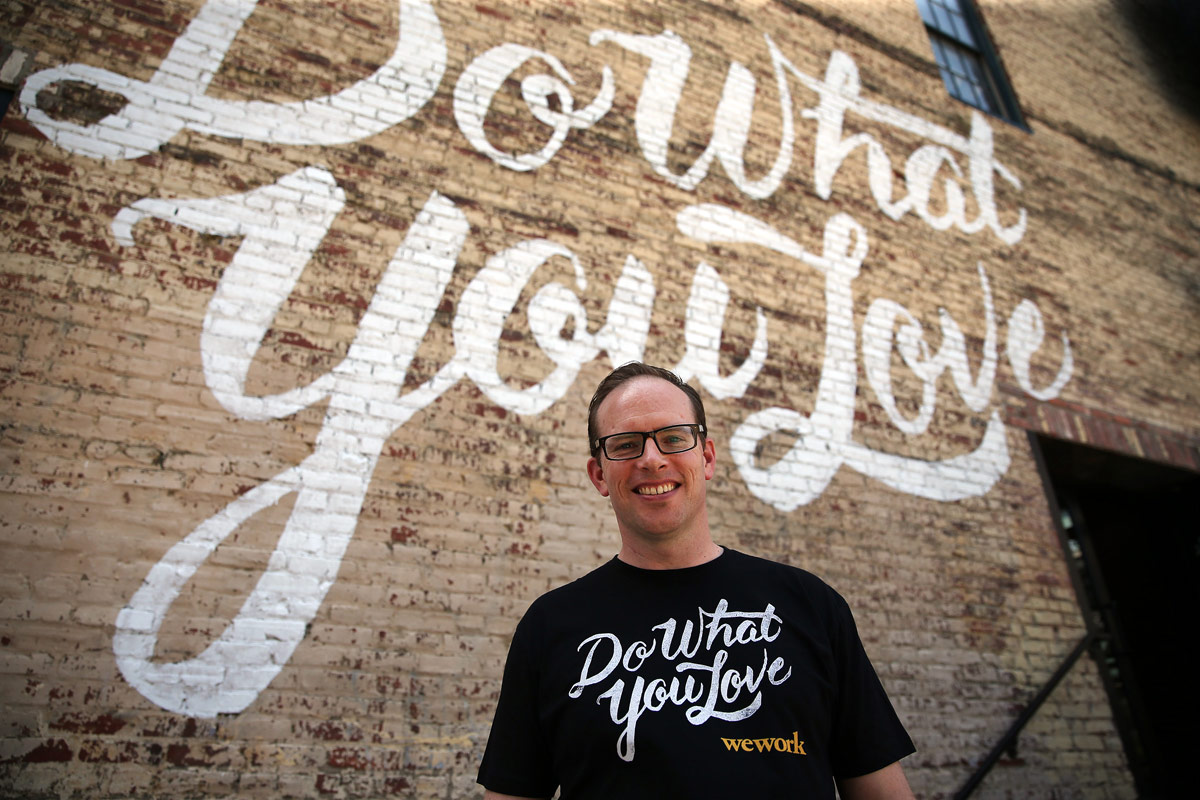wework: (719, 729, 809, 757)
